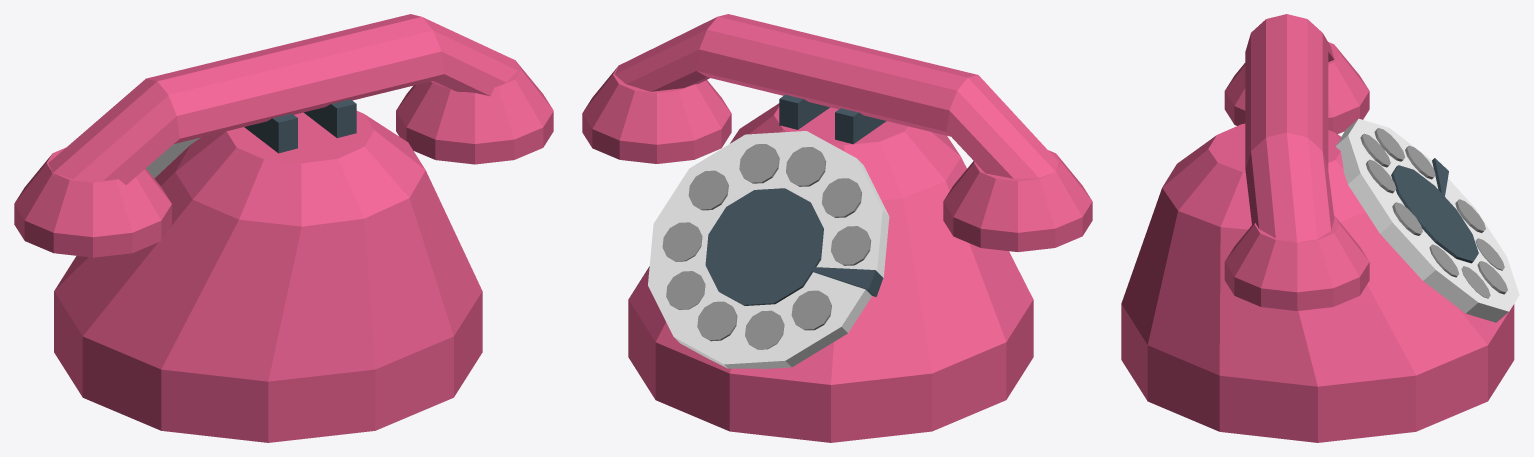
File: Low poly phone.glb
The picture shows the model from 3 angles, left to right: view 1: azimuth 30°, elevation 25°; view 2: azimuth 150°, elevation 25°; view 3: azimuth 270°, elevation 25°; orthographic projection. The views are drawn at different scales.
Visible parts, largest first — view 1: group116773090, group374693254, group1526783242, group1579162969; view 2: group116773090, group374693254, group1579162969, group1526783242; view 3: group116773090, group374693254, group1579162969.
Boxes of the visible parts, left/top/right/bottom form: group116773090: left=54, top=111, right=482, bottom=442; group374693254: left=14, top=14, right=553, bottom=257; group1526783242: left=244, top=99, right=356, bottom=153; group1579162969: left=146, top=137, right=200, bottom=178; group116773090: left=628, top=103, right=1033, bottom=442; group374693254: left=582, top=14, right=1092, bottom=251; group1579162969: left=648, top=131, right=889, bottom=368; group1526783242: left=779, top=94, right=886, bottom=144; group116773090: left=1121, top=123, right=1514, bottom=442; group374693254: left=1224, top=14, right=1369, bottom=310; group1579162969: left=1335, top=118, right=1519, bottom=322.
Size of the model in its own units: 0.2655 by 0.154 by 0.1925.
